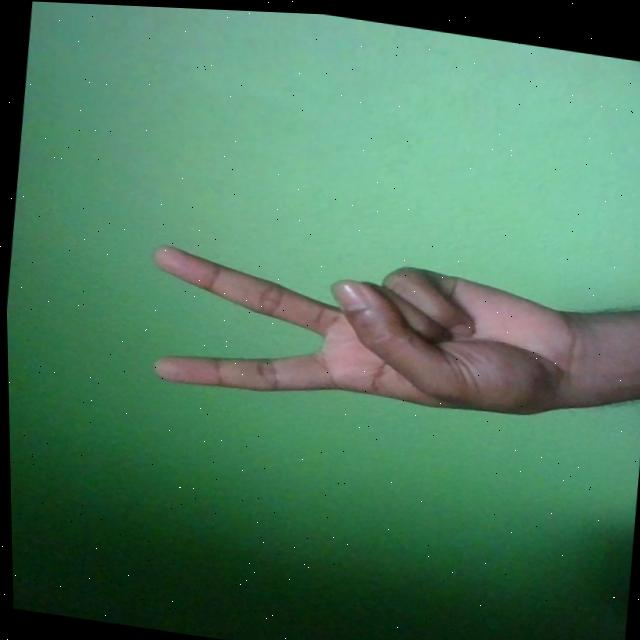Peace: (138, 226, 600, 438)
